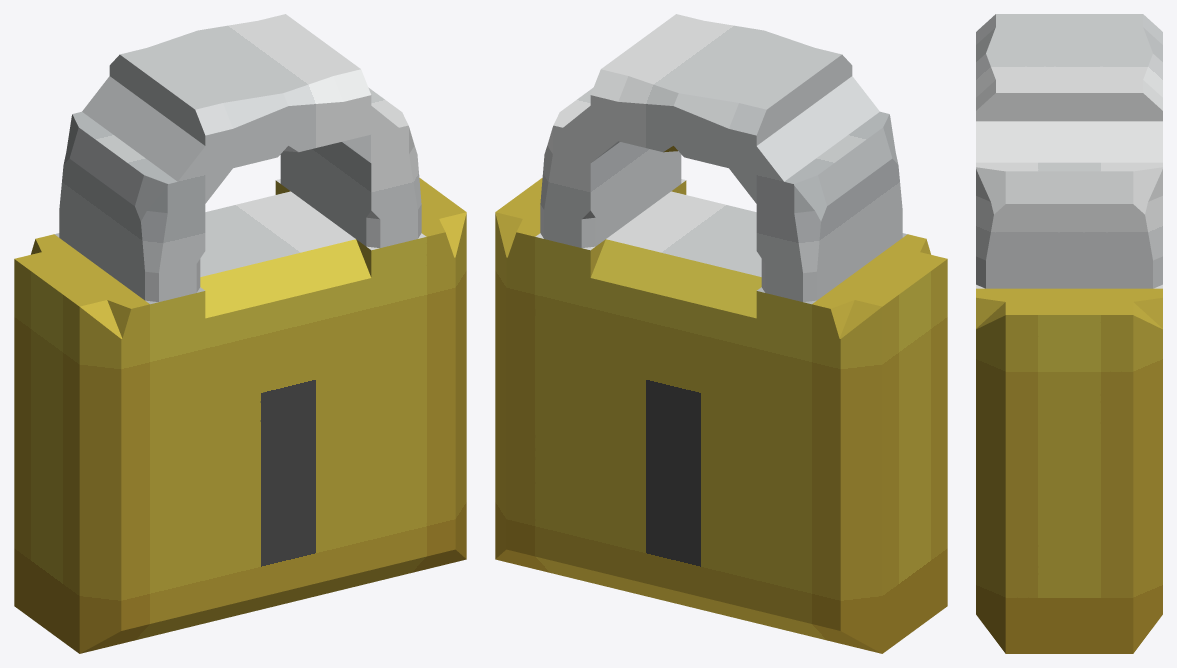
The model's file is lock.glb.
3 views of the same model, side by side, from view 1: azimuth 30°, elevation 25°; view 2: azimuth 150°, elevation 25°; view 3: azimuth 270°, elevation 25° (orthographic). The views are drawn at different scales.
Visible parts, largest first — view 1: lock; view 2: lock; view 3: lock.
Boxes of the visible parts, x1,y1,x2,y2 form: lock: (14,14,466,653); lock: (495,14,947,653); lock: (976,14,1162,653).
Size of the model in its own units: 0.2188 by 0.2812 by 0.0938.
1 material, 1 textured.
